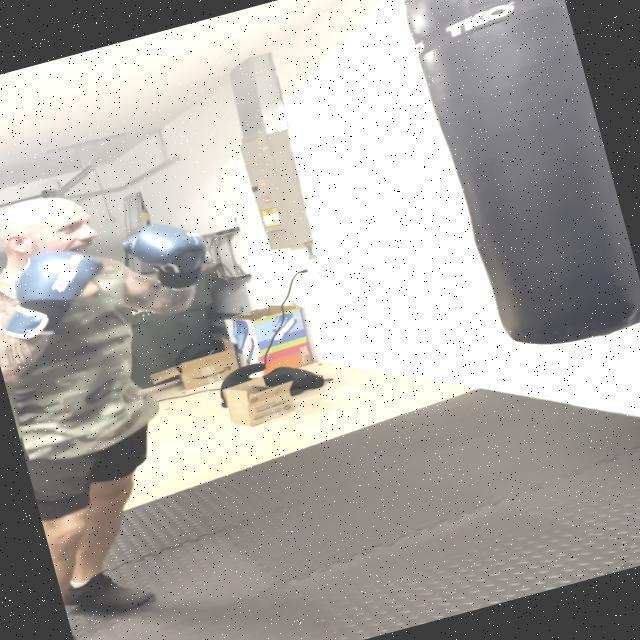bag: (391, 0, 640, 356)
no punch: (0, 146, 220, 381)
